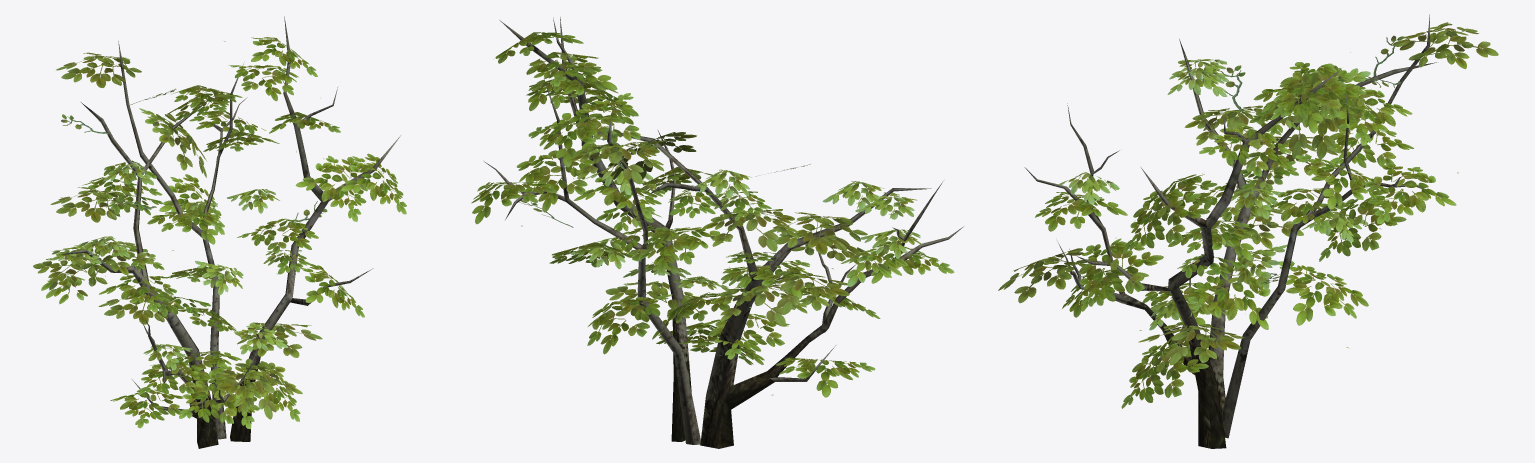
The model's file is wlf_xiaoshu01_z.FBX.
3 views of the same model, side by side, from view 1: azimuth 30°, elevation 25°; view 2: azimuth 150°, elevation 25°; view 3: azimuth 270°, elevation 25° (orthographic). The views are drawn at different scales.
Visible parts, largest first — view 1: wlf_xiaoshu01_z; view 2: wlf_xiaoshu01_z; view 3: wlf_xiaoshu01_z.
Part boxes in pixels (left/top/right/bottom): wlf_xiaoshu01_z: left=33, top=16, right=406, bottom=448; wlf_xiaoshu01_z: left=471, top=17, right=963, bottom=448; wlf_xiaoshu01_z: left=998, top=14, right=1498, bottom=448.
Size of the model in its own units: 37129 by 37778 by 41231.
1 material, 1 textured.
